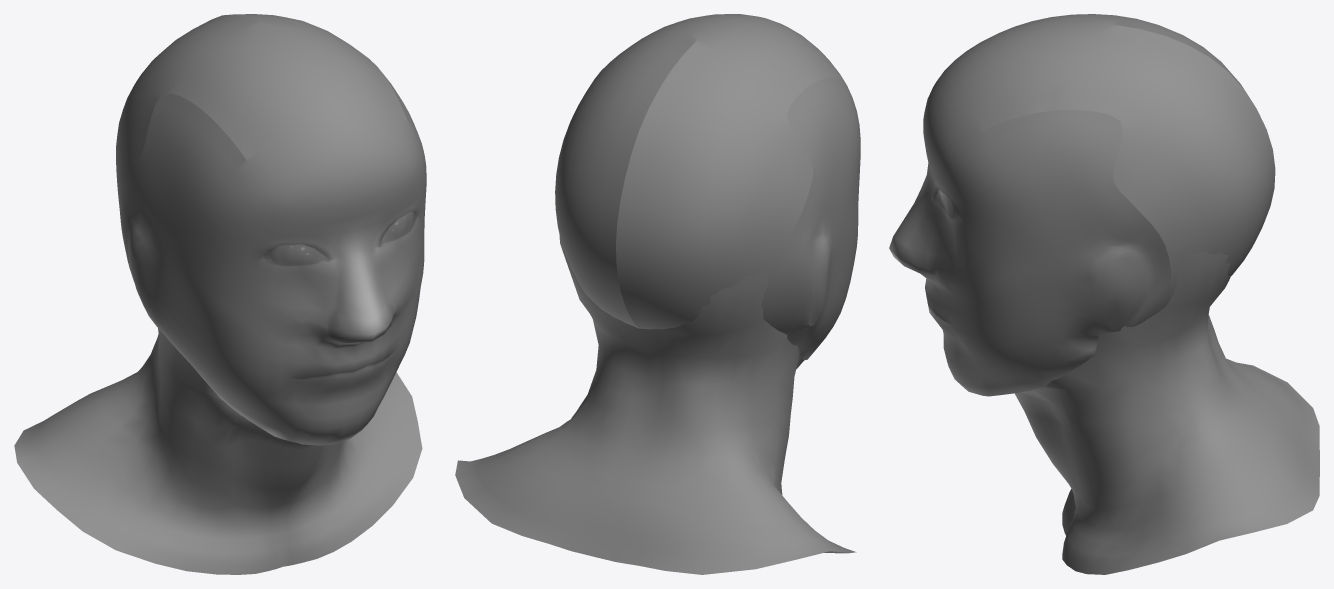
File: BaseHeadEdit_BibirDagu.glb
3 views of the same model, side by side, from view 1: azimuth 30°, elevation 25°; view 2: azimuth 150°, elevation 25°; view 3: azimuth 270°, elevation 25° (orthographic).
Visible parts, largest first — view 1: Head, Neck.001; view 2: Head, Neck.001; view 3: Head, Neck.001.
Part boxes in pixels (x1,y1,x2,y2): Head: (116,14,426,445); Neck.001: (14,328,422,574); Head: (555,14,860,359); Neck.001: (455,236,856,574); Head: (889,14,1275,396); Neck.001: (1014,250,1319,574).
Bounding box in the file's own units: 0.2726 × 0.3641 × 0.2742.
2 materials, 2 textured.
